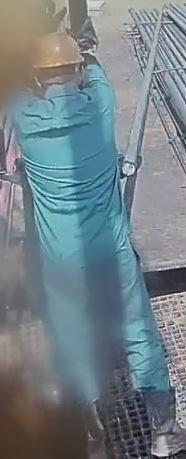gloves: (64, 15, 102, 60)
helmet: (29, 31, 85, 69)
vest: (9, 90, 134, 261)
